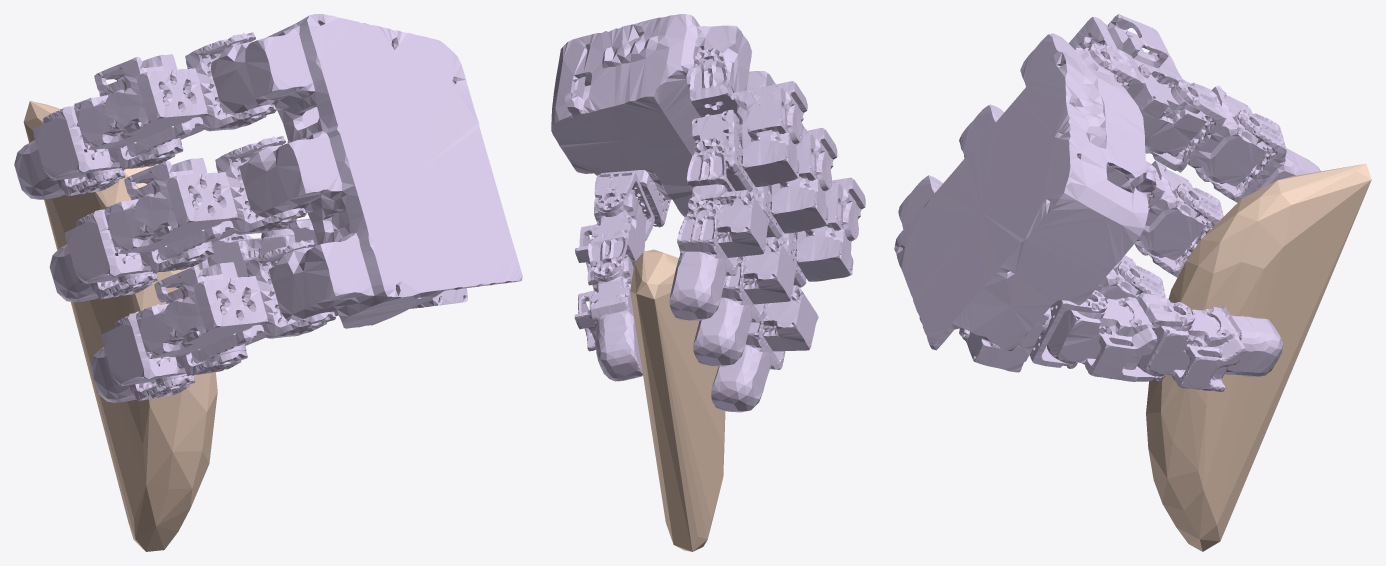
The model's file is b7c3487faf9a33-final.glb.
3 views of the same model, side by side, from view 1: azimuth 30°, elevation 25°; view 2: azimuth 150°, elevation 25°; view 3: azimuth 270°, elevation 25° (orthographic). The views are drawn at different scales.
Parts seen in each view (by area): view 1: LEAP_hand, world; view 2: LEAP_hand, world; view 3: LEAP_hand, world.
Boxes of the visible parts, x1,y1,x2,y2 form: LEAP_hand: (14,14,522,402); world: (23,101,217,551); LEAP_hand: (551,14,865,412); world: (630,249,725,551); LEAP_hand: (894,14,1320,391); world: (1146,163,1371,551).
Size of the model in its own units: 0.1596 by 0.2624 by 0.213.
